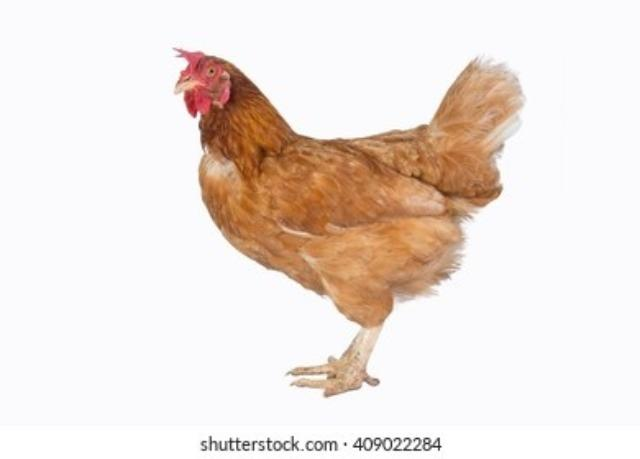Chicken: (172, 46, 526, 398)
